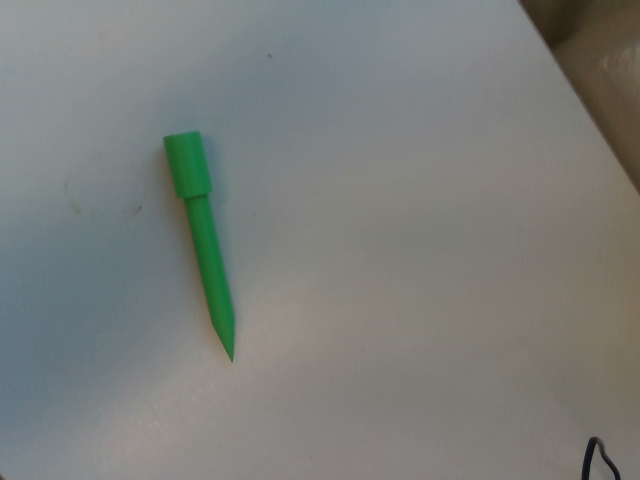Probe: (158, 122, 240, 370)
